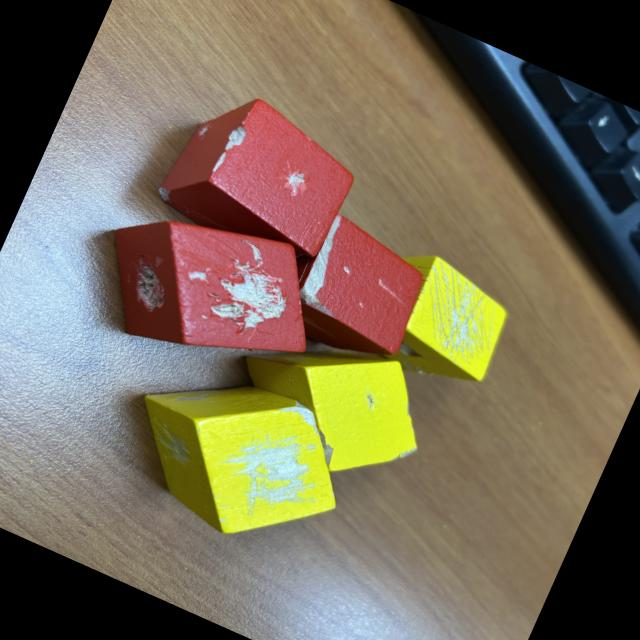broken: (106, 342, 371, 572), (78, 176, 344, 404), (216, 303, 449, 502), (150, 74, 370, 276), (266, 204, 440, 376), (357, 242, 522, 402)
